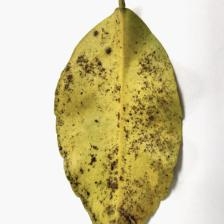canker: (56, 43, 180, 197)
